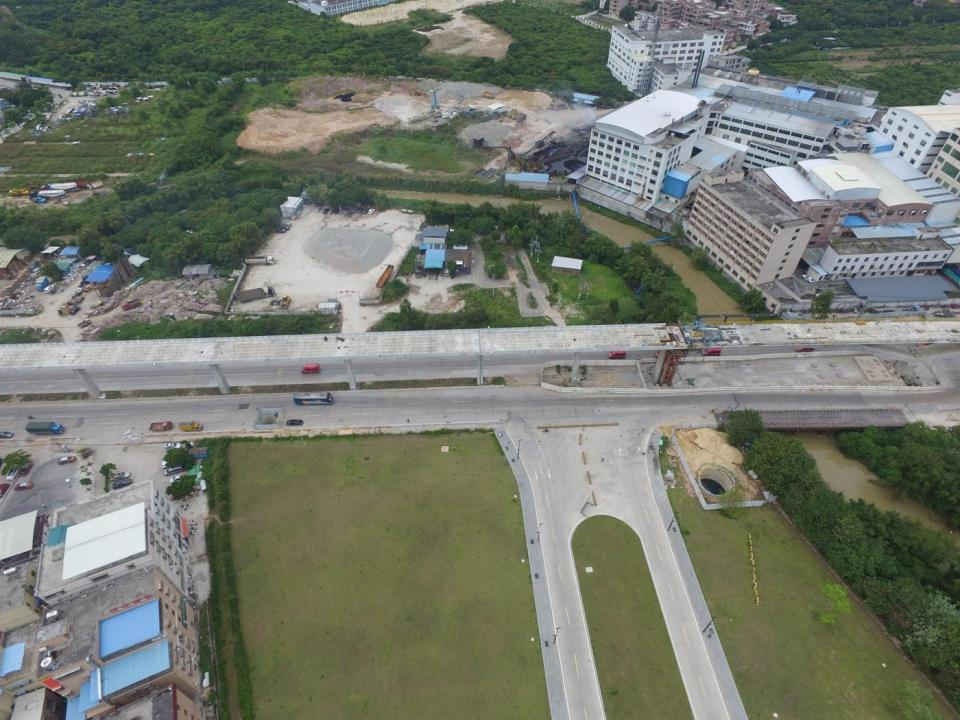bus: (293, 391, 334, 406)
car: (5, 462, 20, 481), (19, 459, 34, 476), (109, 469, 130, 481), (111, 478, 133, 489), (56, 454, 76, 465), (168, 474, 188, 485), (13, 481, 34, 491), (161, 459, 180, 469), (163, 440, 182, 449), (285, 418, 304, 426), (0, 482, 10, 497), (43, 283, 56, 294), (69, 305, 80, 316), (0, 430, 14, 438), (105, 86, 118, 94), (276, 228, 286, 233), (315, 205, 322, 212), (327, 209, 334, 216), (322, 208, 330, 214), (357, 207, 363, 214), (280, 226, 290, 230), (368, 208, 374, 214), (363, 208, 369, 214)
truck: (235, 285, 276, 303), (24, 421, 64, 435), (376, 264, 394, 289), (243, 254, 275, 266), (40, 182, 78, 192), (56, 178, 89, 189), (28, 190, 67, 199), (148, 420, 174, 432), (178, 420, 203, 432), (120, 298, 141, 310), (35, 276, 49, 292), (414, 259, 423, 278), (77, 318, 92, 329), (29, 196, 46, 203), (481, 90, 494, 99)
van: (164, 463, 183, 476), (300, 362, 320, 374), (916, 338, 940, 348), (607, 349, 626, 359), (703, 346, 721, 356), (796, 344, 815, 353), (283, 223, 292, 228)
